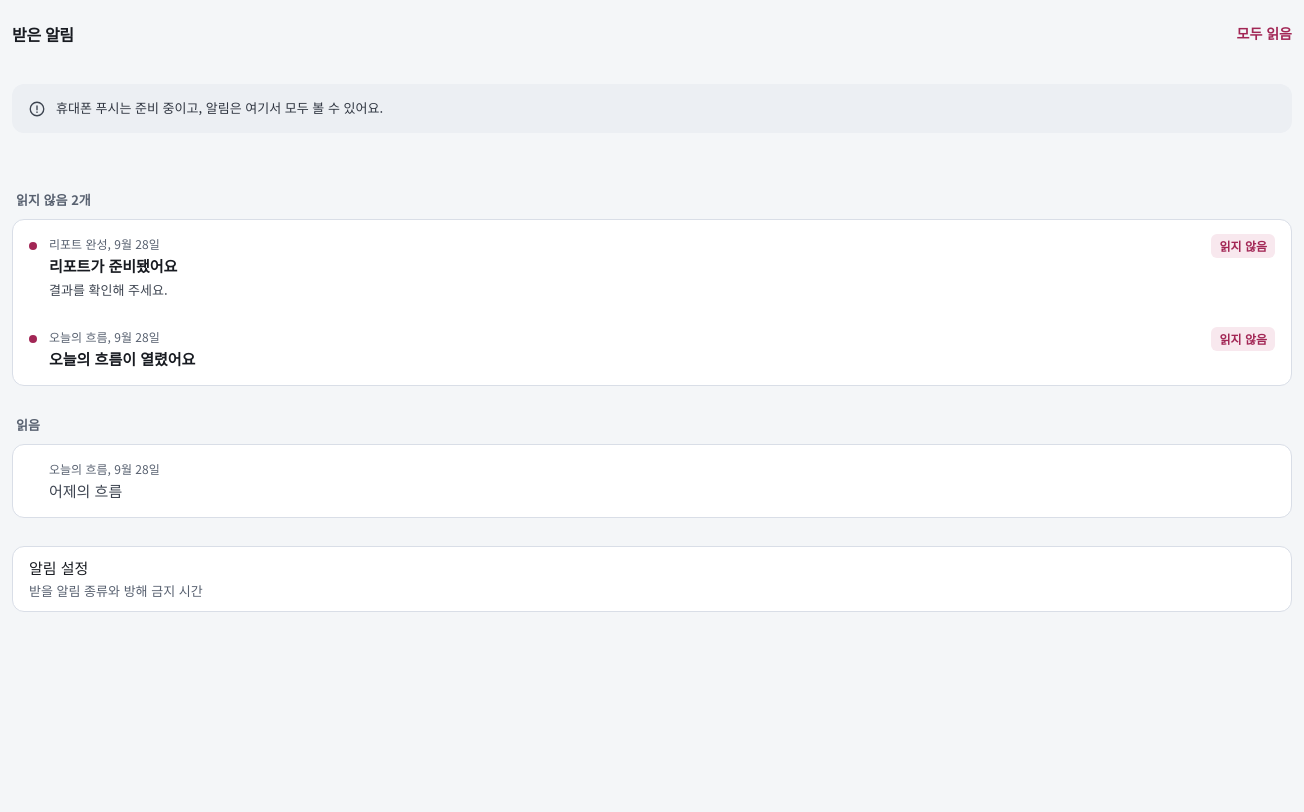
it: notification inbox › splits unread from read, marks a row read when opened and tells the bell
The width and height of the screenshot is (1304, 812).
Expected: the text "어제의 흐름" is shown, [49,480,122,501]
Step 1. Click the button "오늘의 흐름, 9월 28일 오늘의 흐름이 열렸어요 읽지 않음" → (78, 337), box [13,313,1291,385]
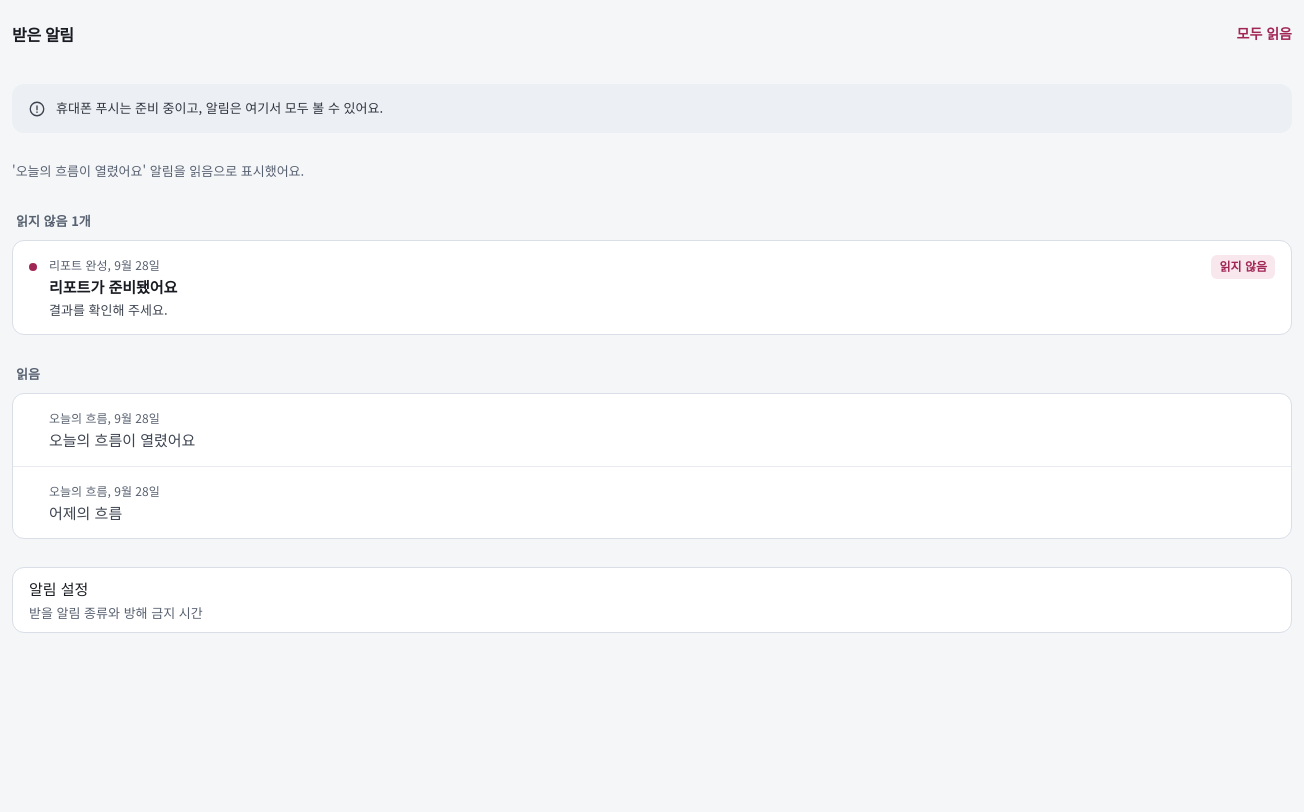
Now the element "읽지 않음 1개" is shown, box [12,210,1292,335]
Now the message shows "읽음으로 표시했어요", box [12,161,304,180]
